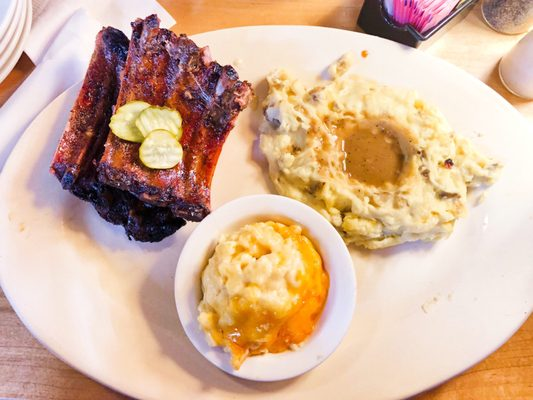soup: (50, 14, 254, 242)
sushi: (173, 194, 357, 383)
